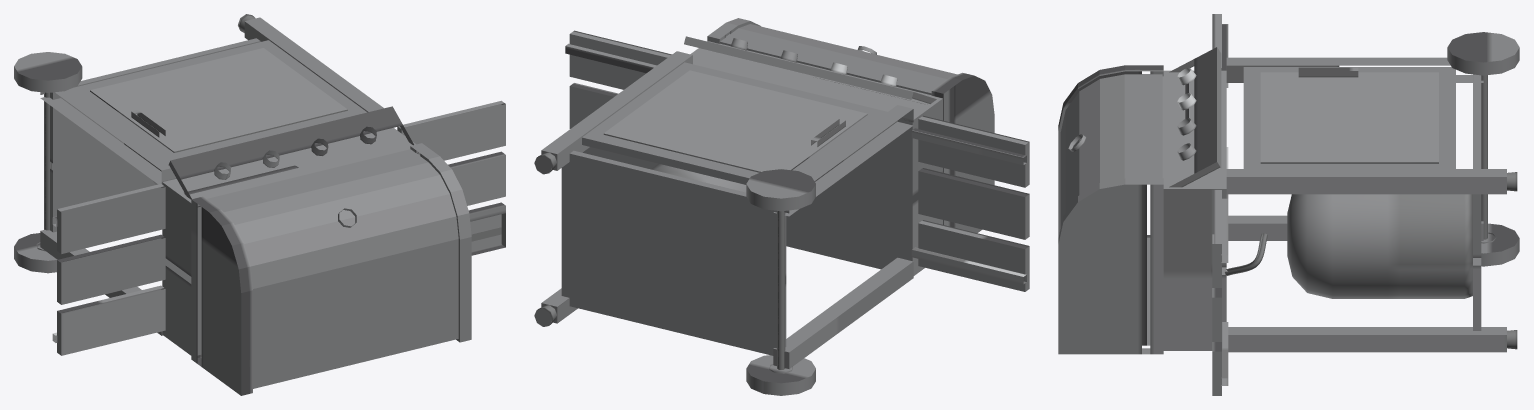
3 renders of one model, left to right at view 1: azimuth 30°, elevation 25°; view 2: azimuth 150°, elevation 25°; view 3: azimuth 270°, elevation 25°, orthographic. The views are drawn at different scales.
Bounding box in the file's own units: 1.34 × 0.5704 × 1.13.
